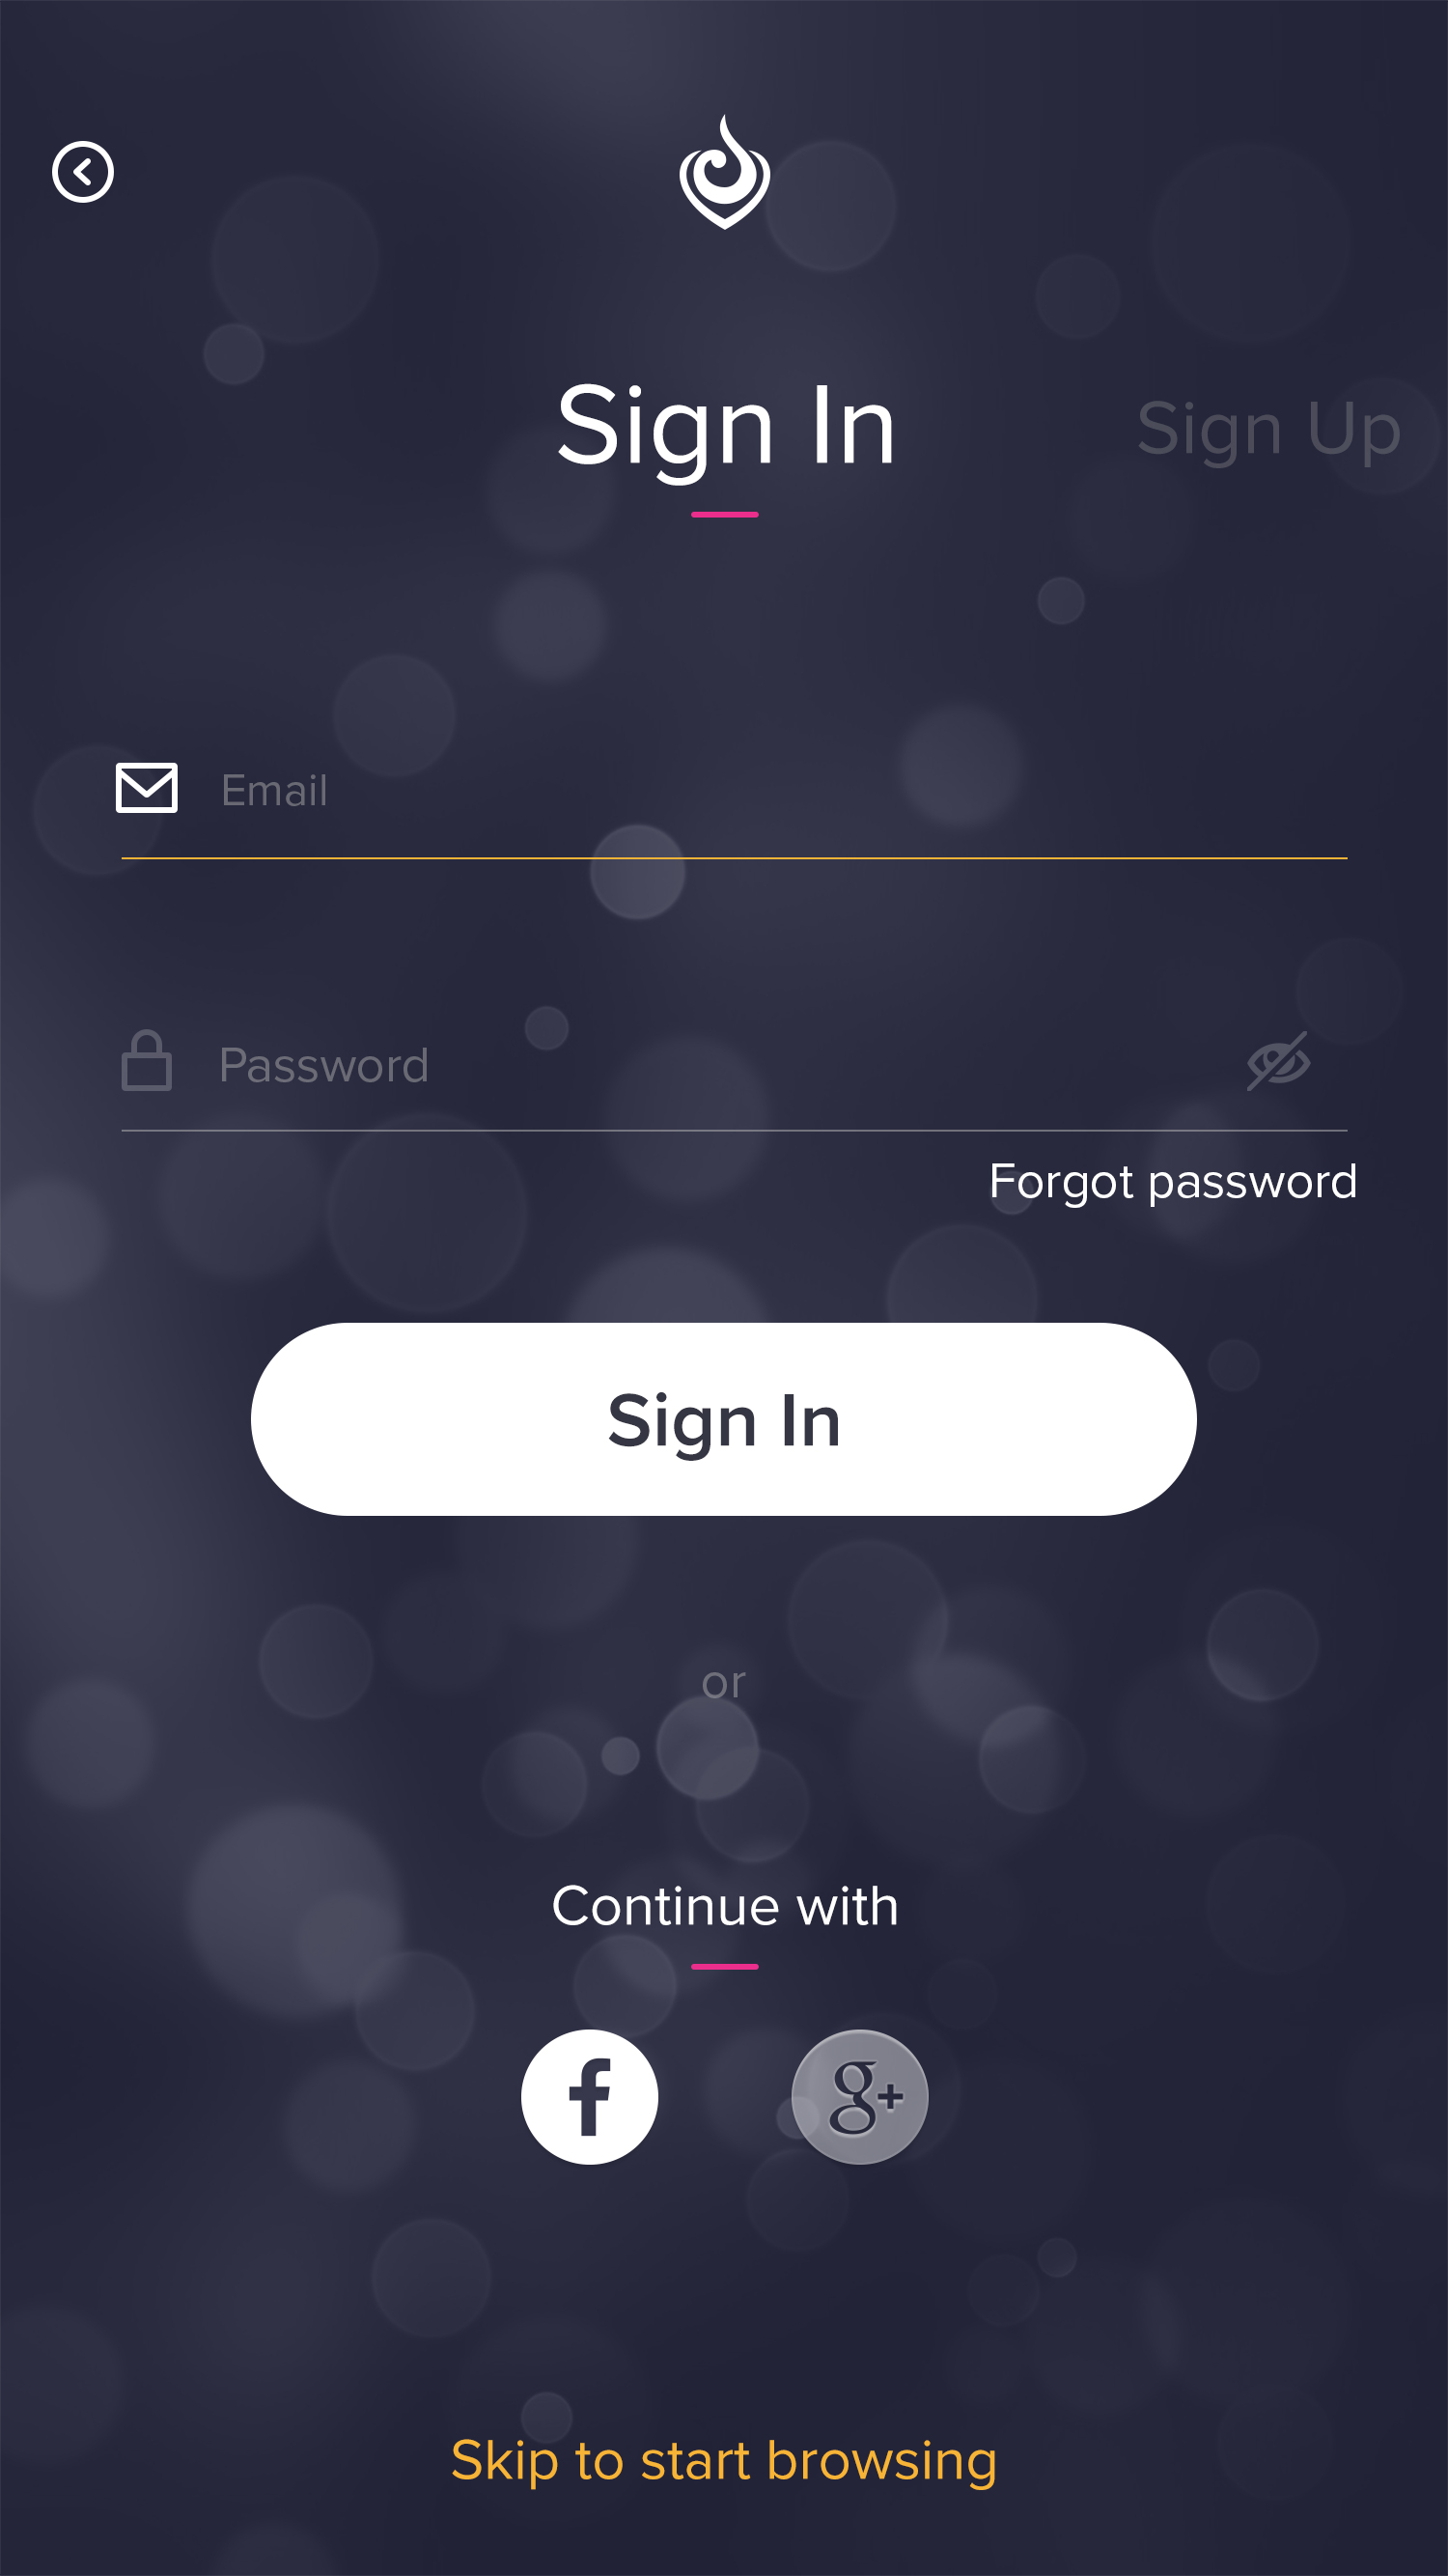BackgroundImage: (2, 2, 1448, 2576)
EditText: (122, 1028, 1349, 1134), (117, 763, 1349, 862)
Icon: (790, 2029, 930, 2166), (522, 2029, 659, 2166), (51, 142, 117, 205), (1246, 1031, 1312, 1093), (122, 1030, 173, 1092), (117, 763, 179, 814)
Image: (679, 113, 773, 232)
Text: (557, 384, 893, 488), (451, 2436, 997, 2493), (1137, 400, 1400, 471), (992, 1162, 1356, 1210), (553, 1884, 898, 1927), (221, 1047, 428, 1083), (223, 773, 327, 809), (702, 1672, 748, 1700)
TextButton: (251, 1323, 1199, 1516)
